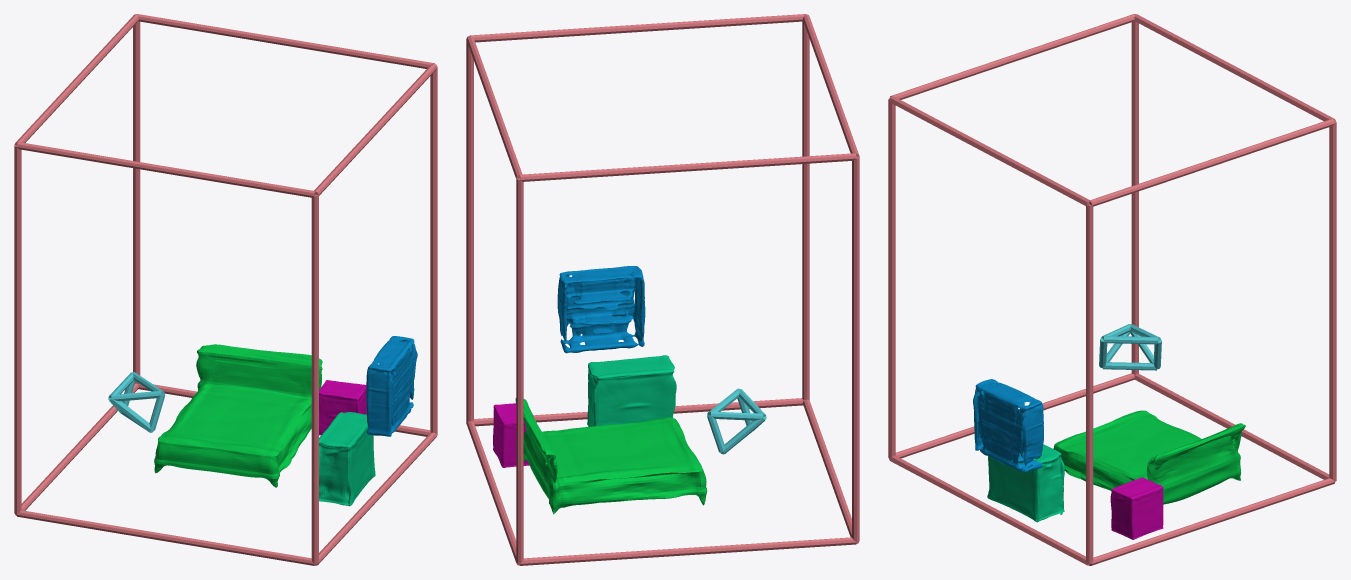
3 renders of one model, left to right at view 1: azimuth 30°, elevation 25°; view 2: azimuth 150°, elevation 25°; view 3: azimuth 270°, elevation 25°, orthographic. The views are drawn at different scales.
Parts seen in each view (by area): view 1: world; view 2: world; view 3: world.
Boxes of the visible parts, left/top/right/bottom form: world: left=14, top=14, right=437, bottom=565; world: left=466, top=14, right=859, bottom=565; world: left=888, top=14, right=1336, bottom=565.
Bounding box in the file's own units: 6.13 × 5.49 × 6.11.
